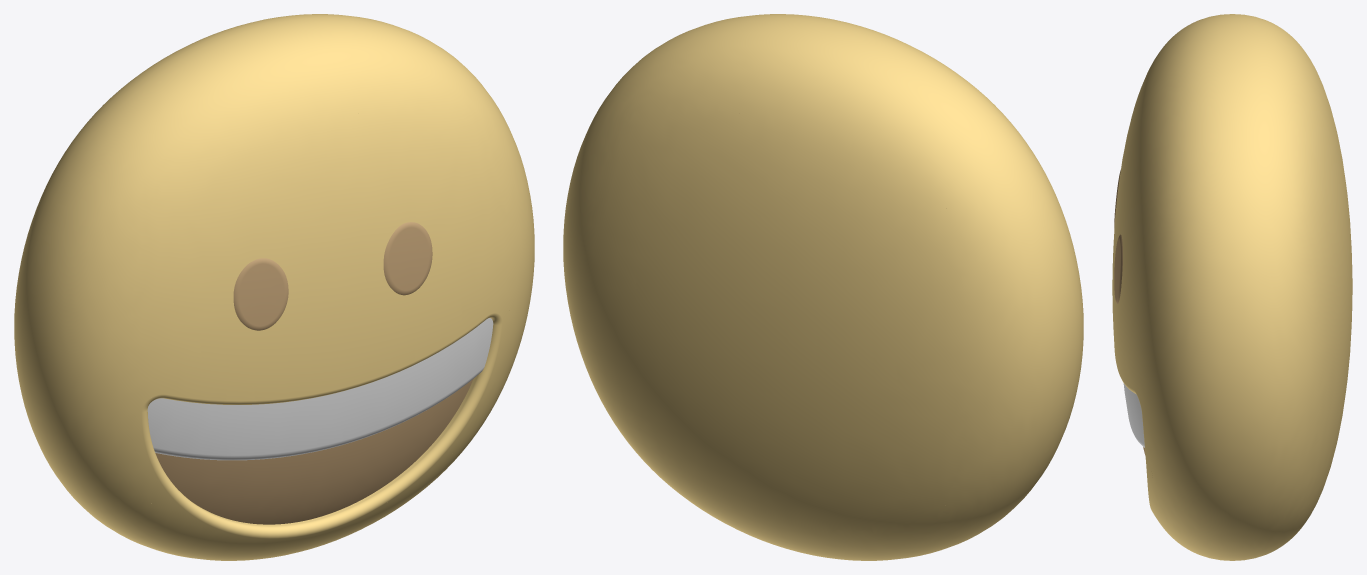
3 views of the same model, side by side, from view 1: azimuth 30°, elevation 25°; view 2: azimuth 150°, elevation 25°; view 3: azimuth 270°, elevation 25° (orthographic). The views are drawn at different scales.
Parts seen in each view (by area): view 1: 001_SmileEmoji1; view 2: 001_SmileEmoji1; view 3: 001_SmileEmoji1.
Part boxes in pixels (x1,y1,x2,y2): 001_SmileEmoji1: [14, 14, 534, 560]; 001_SmileEmoji1: [563, 14, 1083, 560]; 001_SmileEmoji1: [1112, 14, 1352, 560].
Size of the model in its own units: 0.1561 by 0.1561 by 0.0696.
